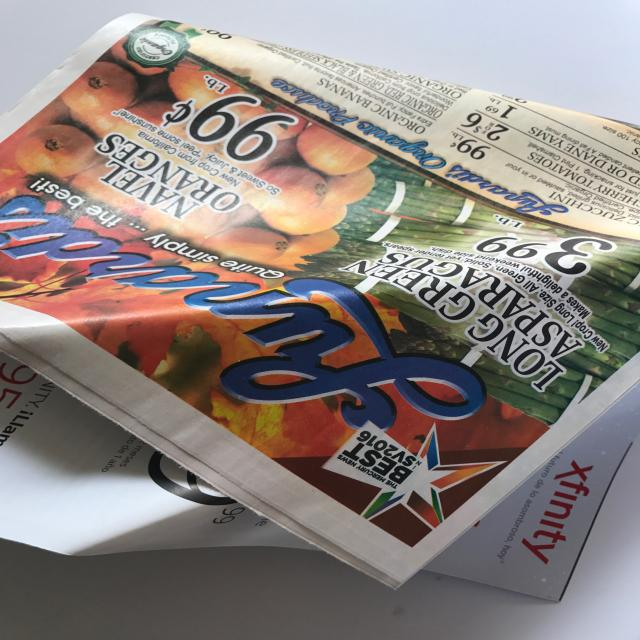paper: (1, 12, 639, 600)
